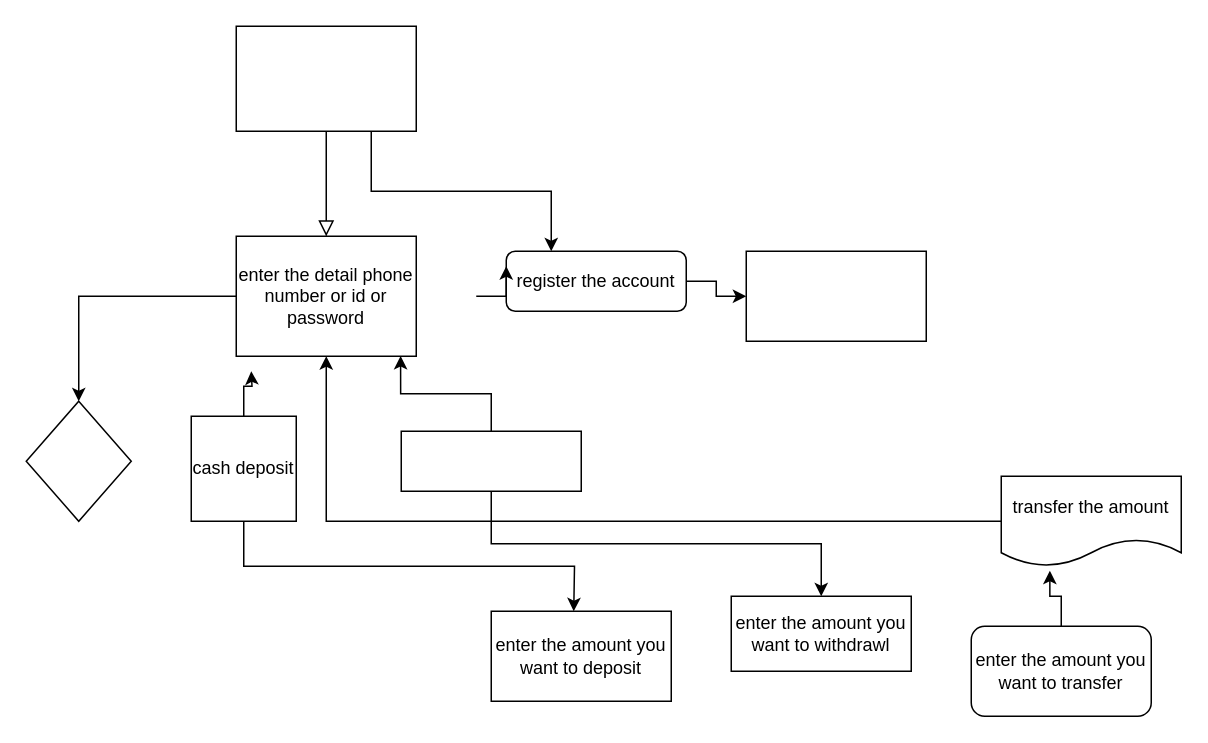
This 1208x743 diagram has some shape labels left out. Here are the shapes that lost their labels. From the top down, the centre of each, then its label:
At pixel 325 78: "If you are existing user login the account".
At pixel 835 295: "write the account number phone number id and password".
At pixel 78 460: "balance enquiry".
At pixel 490 460: "cash withdrawal".
